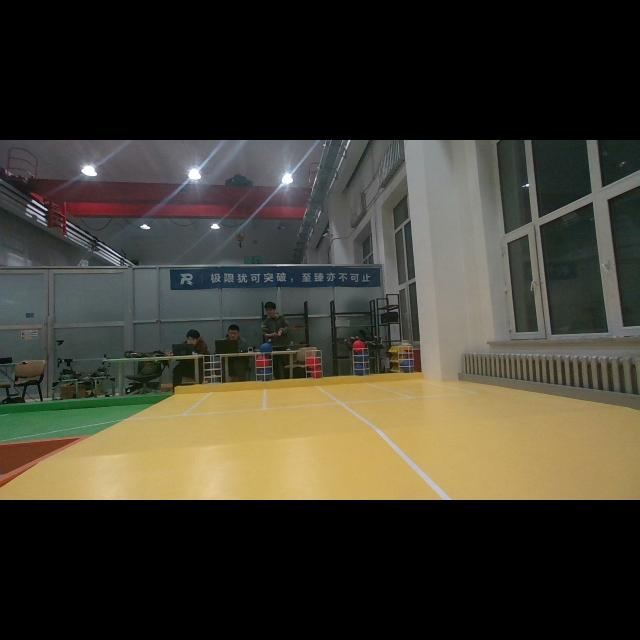S: (395, 342, 419, 382), (200, 354, 224, 391), (252, 352, 276, 388), (350, 346, 372, 382), (304, 348, 324, 386)
